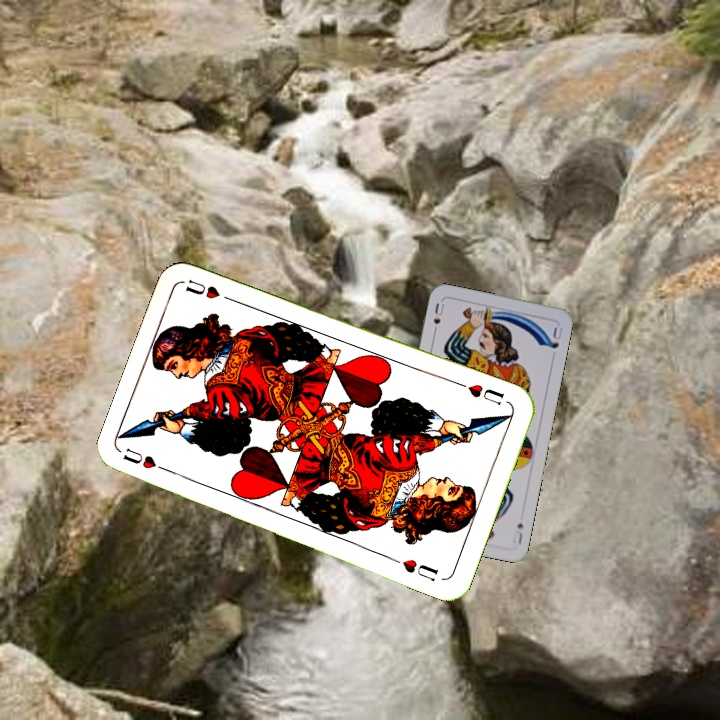HU: (119, 444, 176, 476), (464, 380, 507, 408)
SU: (429, 299, 447, 338), (508, 519, 526, 547)
